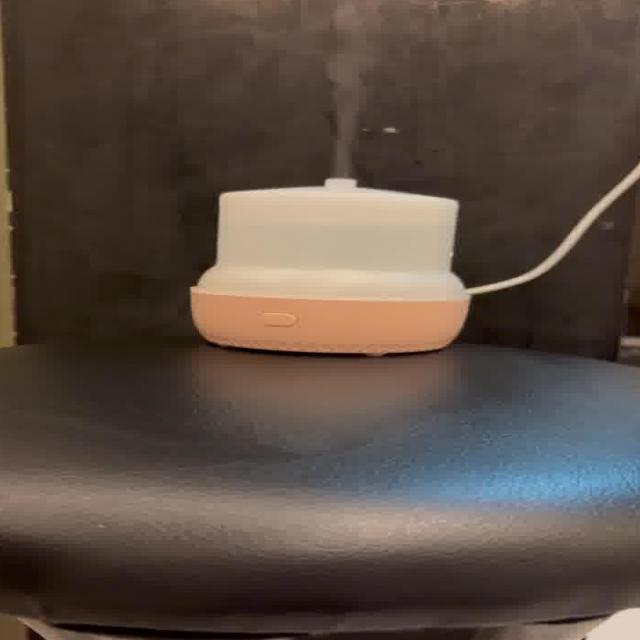fire: (320, 54, 371, 172)
